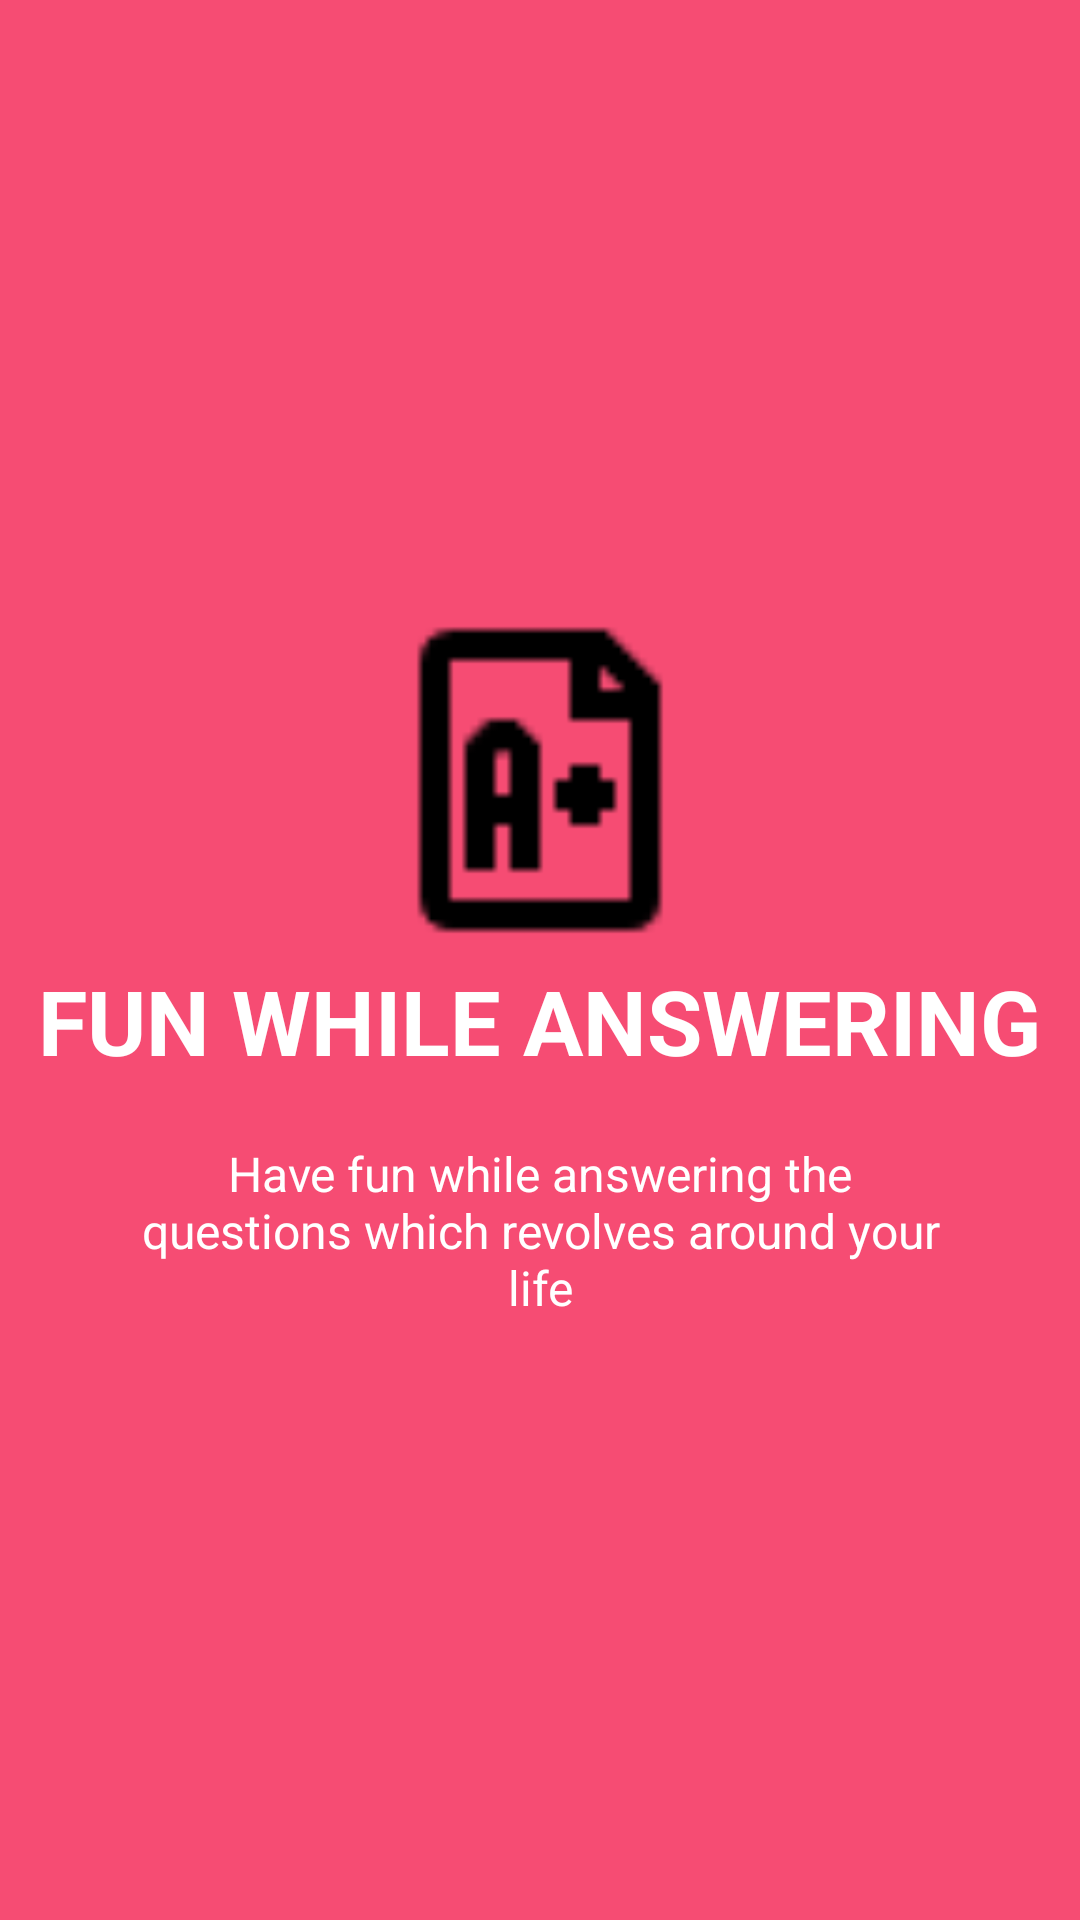

Where icons sit on this 1080px×1920px app screen, as (x1, y1, x2, y2):
exam: (417, 627, 663, 933)
